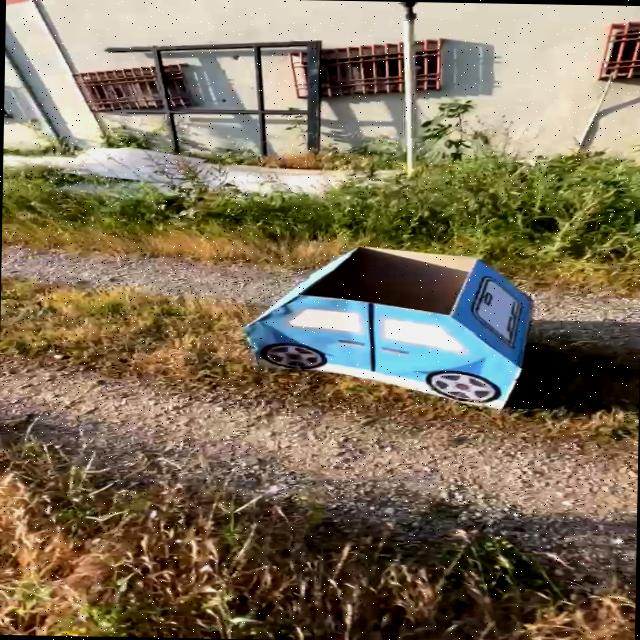blue_car: (205, 217, 597, 427)
